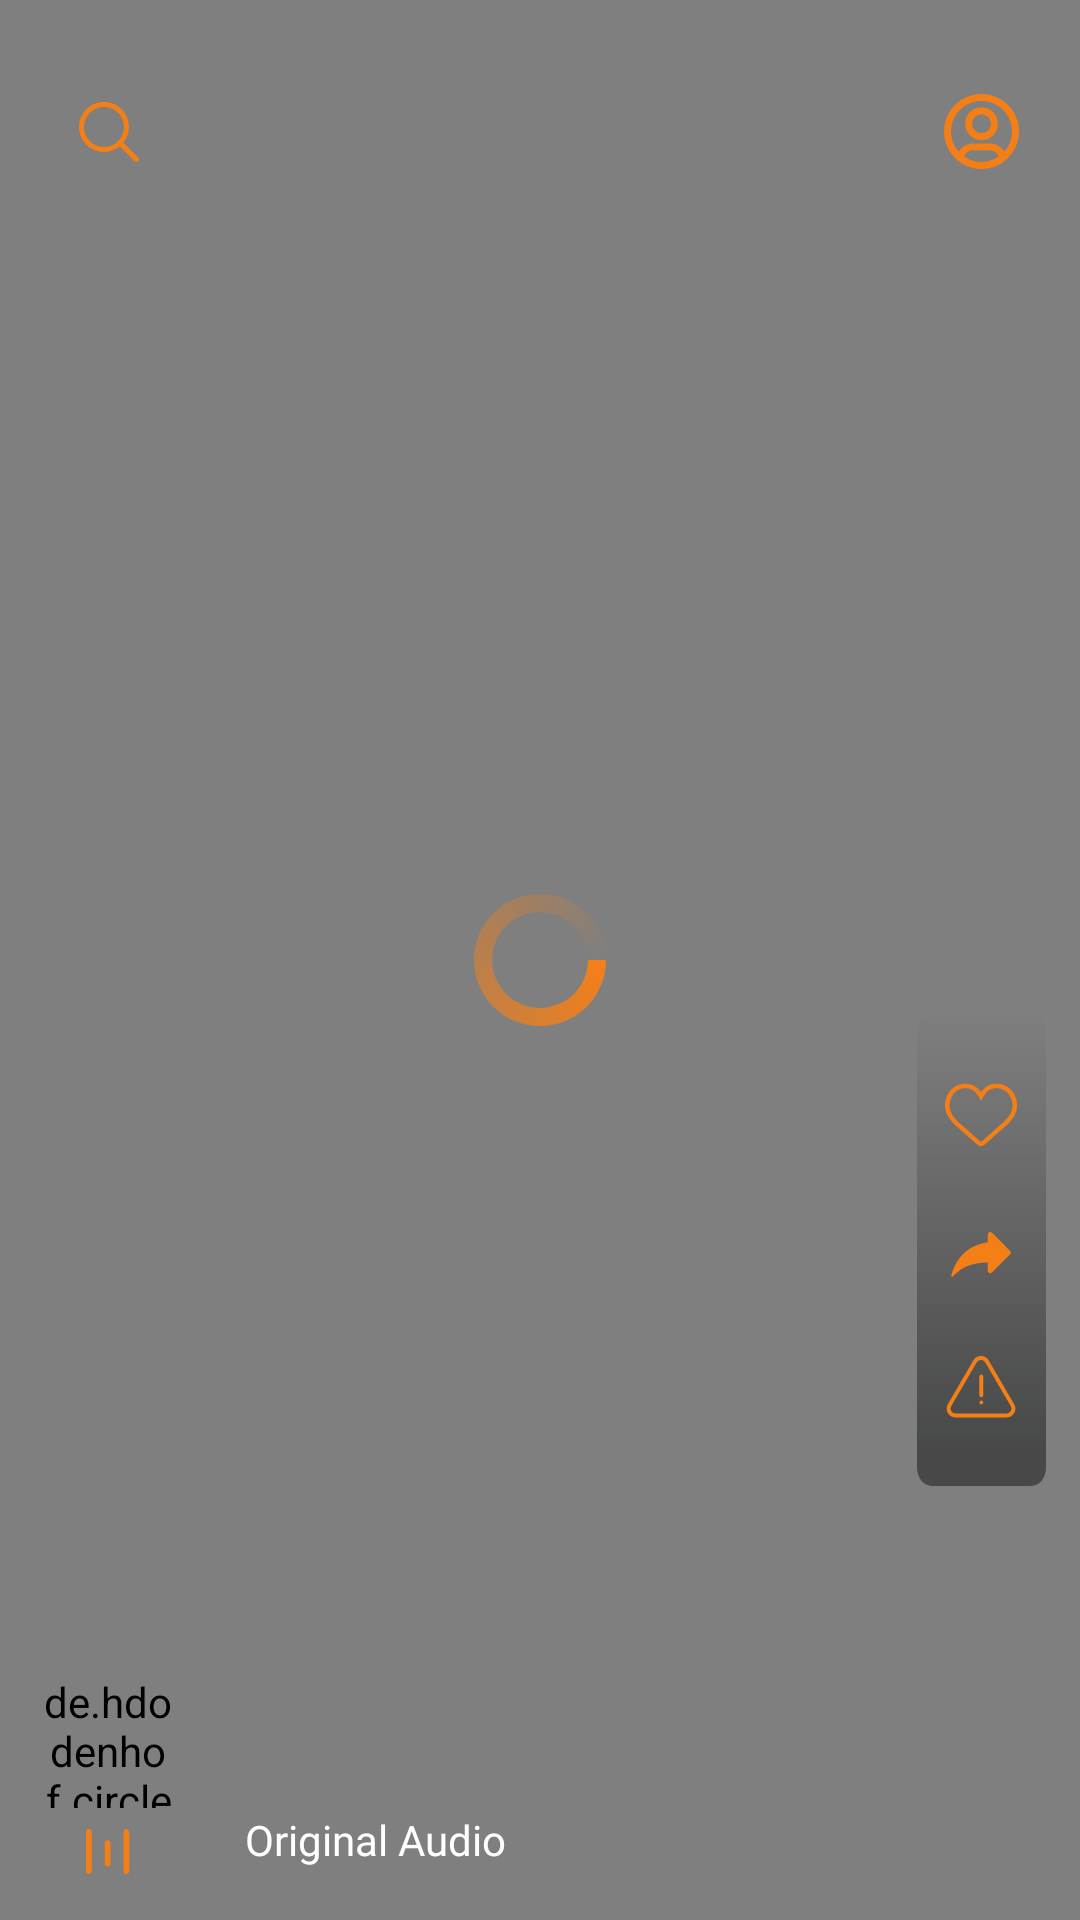

Locate icon controls on the screen. Image size 1080px x 1920px, boxes as box(x1, y1, x2, y2).
beats: box(86, 1829, 130, 1874)
like unfill: box(945, 1083, 1017, 1146)
profile: box(944, 94, 1019, 169)
report: box(946, 1356, 1016, 1418)
search: box(79, 102, 139, 162)
share: box(951, 1232, 1011, 1277)
